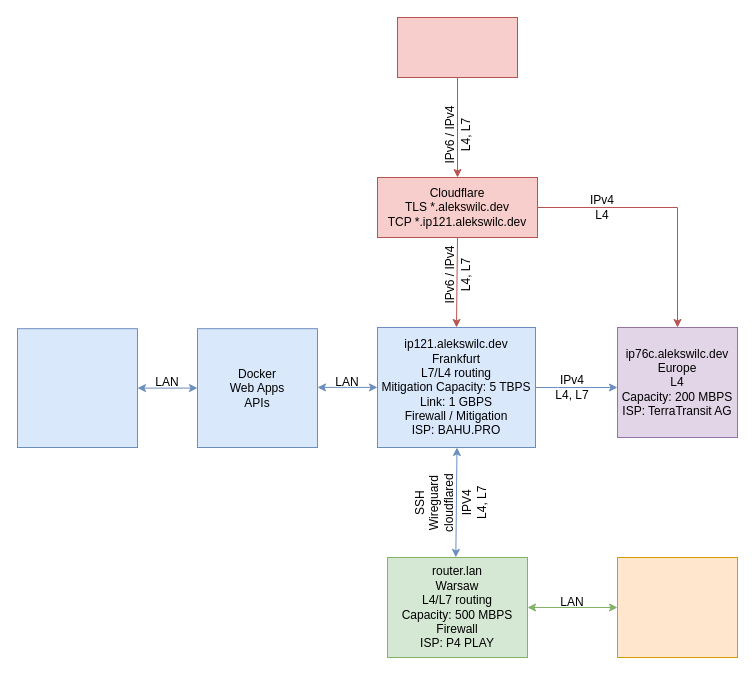
This 755x675 diagram has some shape labels left out. The centre of each missing label's shape, as x and y in pixels:
"alekswilc.dev simrail.pro" belongs at point (457, 47).
"h01.host.lan Warsaw Admin access APIs" belongs at point (677, 607).
"MongoDB MariaDB PostgreSQL Redis" belongs at point (77, 388).
